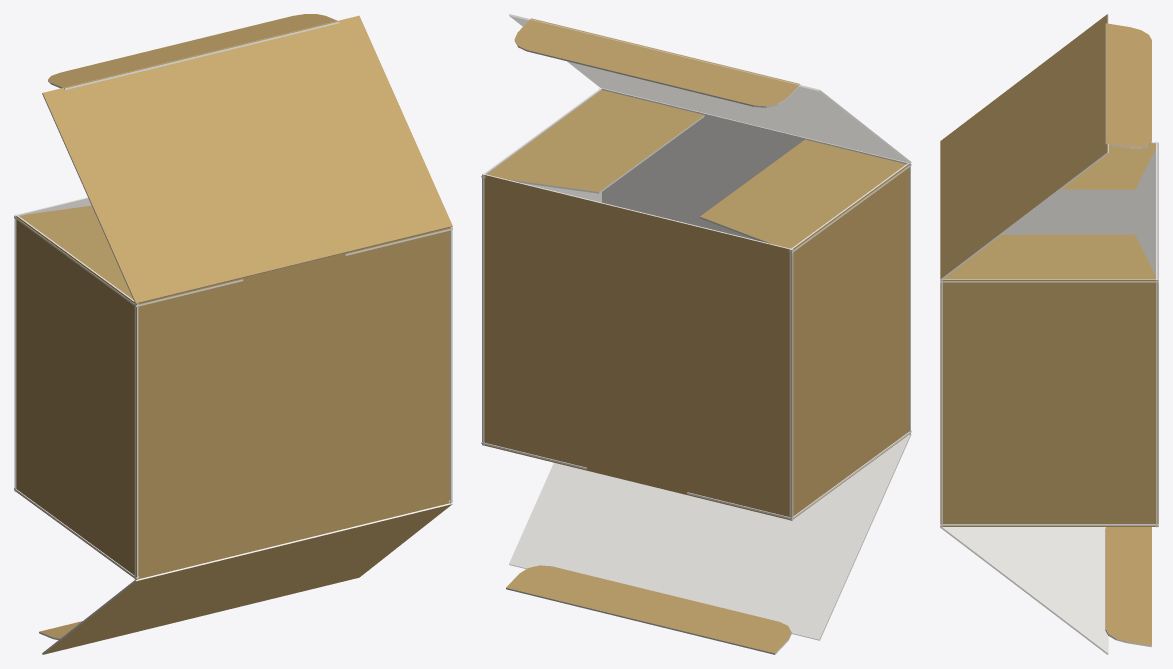
The picture shows the model from 3 angles, left to right: view 1: azimuth 30°, elevation 25°; view 2: azimuth 150°, elevation 25°; view 3: azimuth 270°, elevation 25°; orthographic projection. The views are drawn at different scales.
Visible parts, largest first — view 1: Packive_Box_fefco0210; view 2: Packive_Box_fefco0210; view 3: Packive_Box_fefco0210.
Boxes of the visible parts, x1,y1,x2,y2 form: Packive_Box_fefco0210: (14, 14, 452, 654); Packive_Box_fefco0210: (481, 14, 911, 654); Packive_Box_fefco0210: (940, 14, 1158, 654).
Bounding box in the file's own units: 0.3 × 0.5101 × 0.2.
Materials: 24 (12 with a texture image).
